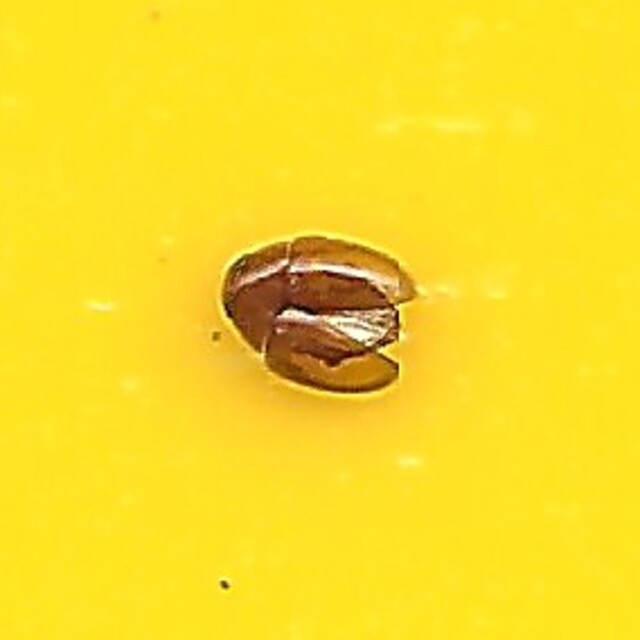Coleoptera: (225, 237, 415, 403)
